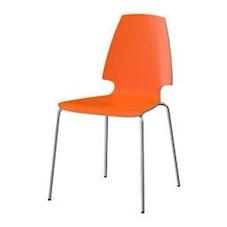chair: (28, 4, 198, 226)
